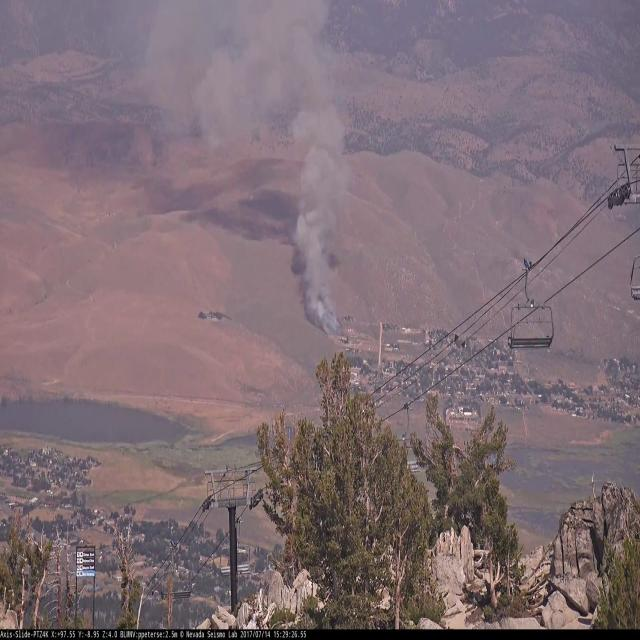smoke: (104, 1, 347, 343)
